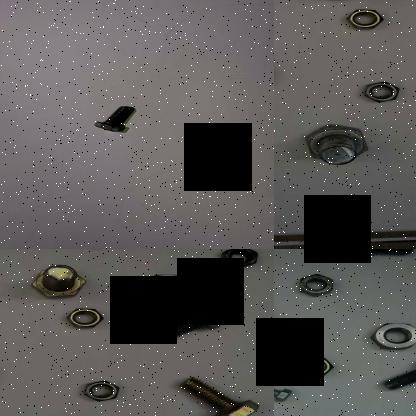Bolts: (169, 369, 261, 416), (301, 121, 379, 166), (148, 310, 230, 346), (29, 262, 101, 301), (91, 105, 139, 136), (382, 356, 416, 396), (343, 249, 416, 259), (274, 373, 293, 403)
NUTS: (134, 271, 205, 304), (366, 316, 416, 354), (359, 76, 408, 106), (79, 375, 128, 405), (344, 5, 386, 37), (64, 304, 106, 336), (294, 272, 340, 300), (291, 354, 339, 378), (212, 249, 262, 269)
